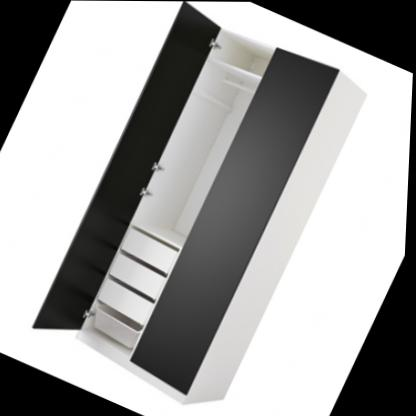Cabinet: (19, 0, 382, 416)
